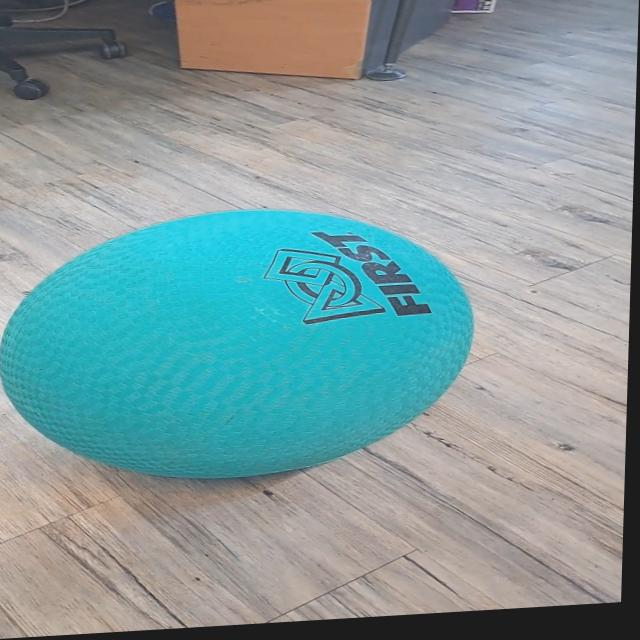ALGAE: (0, 193, 479, 494)
